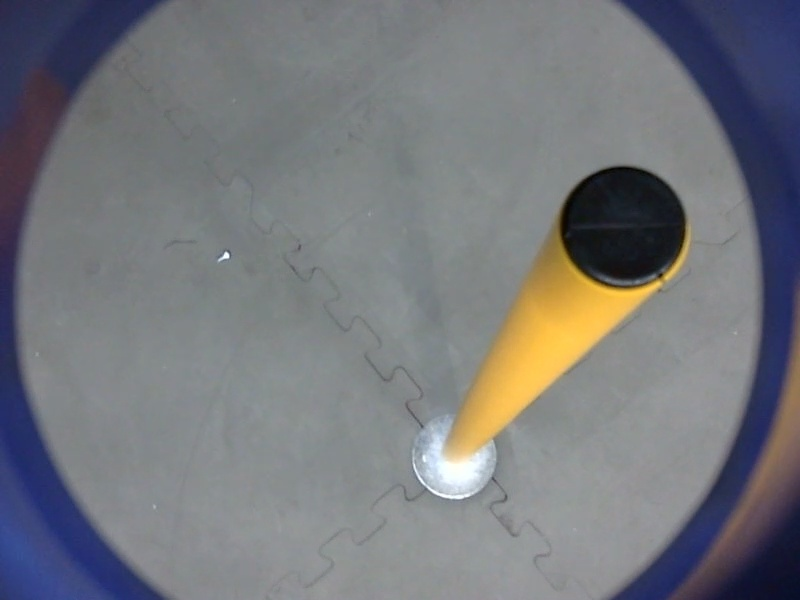tip: (553, 161, 697, 299)
